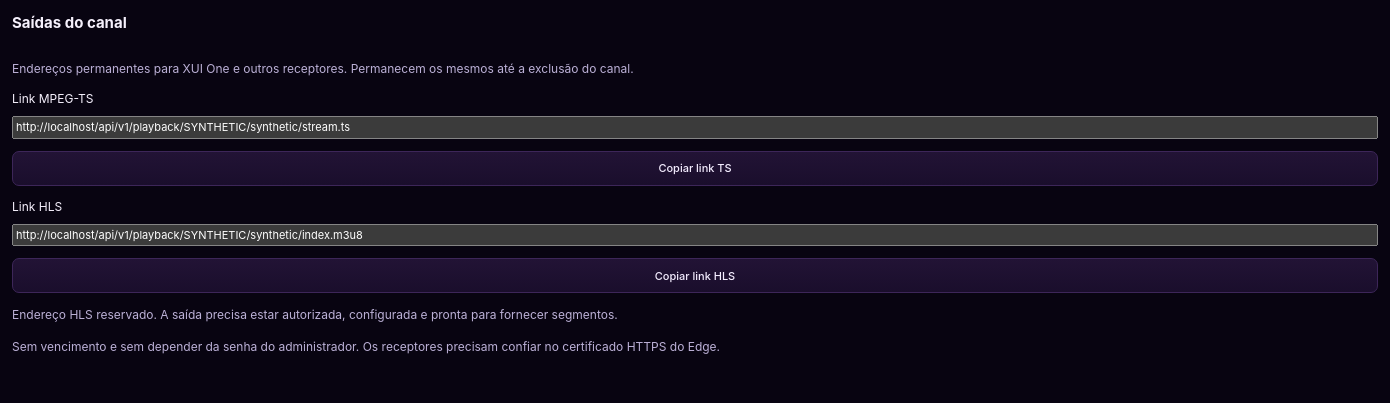
provides a selectable-copy fallback when clipboard access is unavailable
Expected: the field labelled "Link MPEG-TS" is shown, left=12, top=116, right=1378, bottom=139
What coordinates should you click on to do the following:
click the button "Copiar link TS"
I would click on:
 (695, 168)
Its box is left=12, top=151, right=1378, bottom=186.
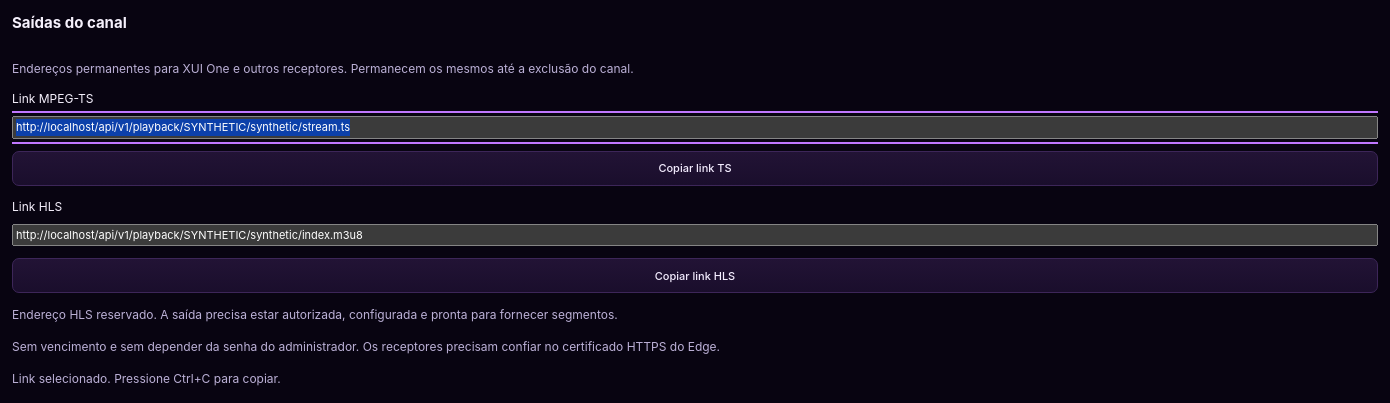
Now the text "Link selecionado. Pressione Ctrl+C para copiar." is shown, box left=12, top=371, right=281, bottom=386
